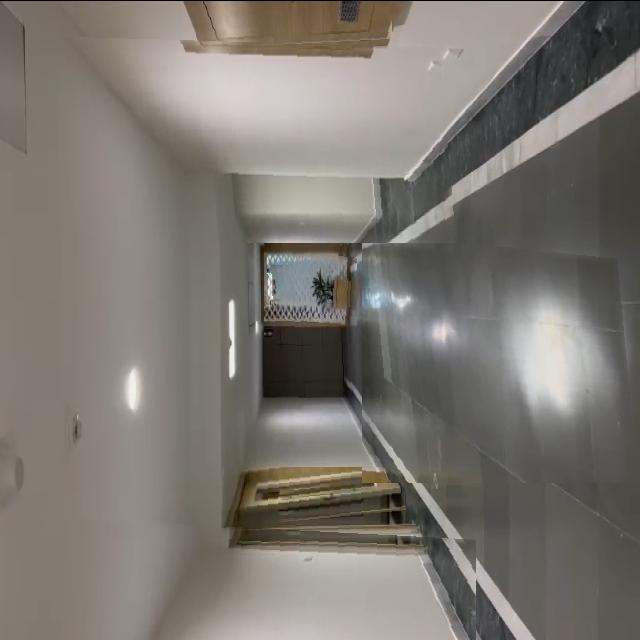door: (264, 242, 352, 397), (220, 466, 407, 527), (196, 0, 393, 48)
floor: (362, 229, 640, 482)
furniture: (301, 252, 357, 325)
wall: (59, 35, 457, 242), (12, 515, 476, 640)
